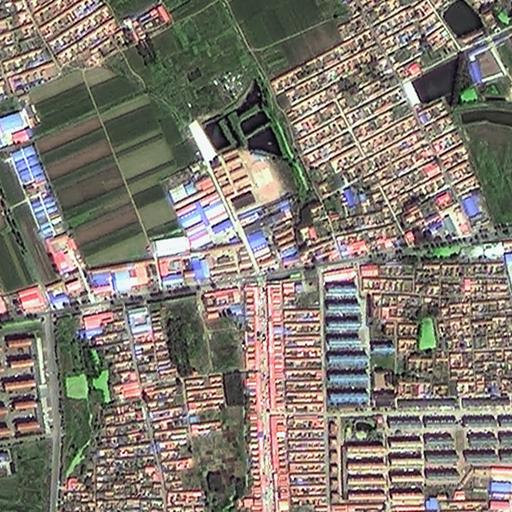school: (207, 144, 286, 212)
